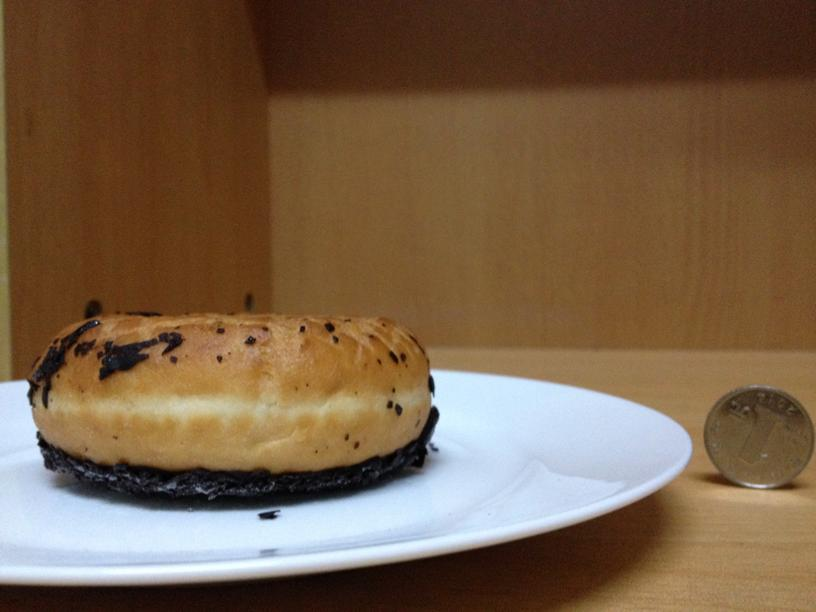coin: (702, 385, 813, 490)
doughnut: (25, 314, 438, 499)
